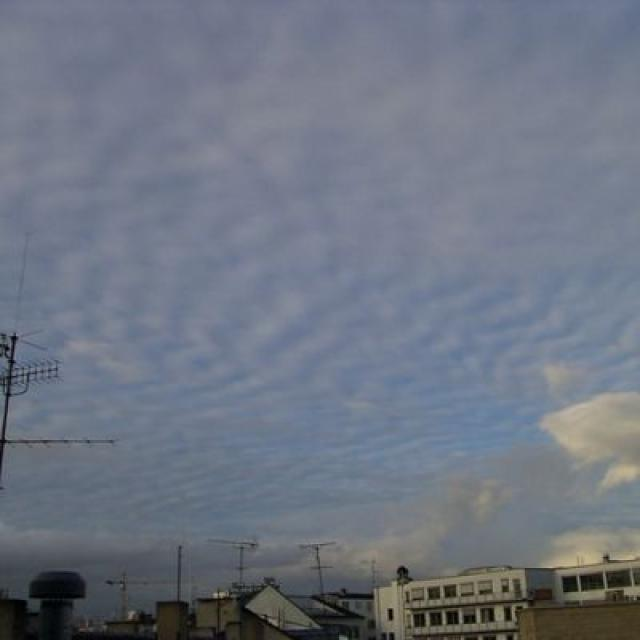Ac: (1, 30, 640, 368)
